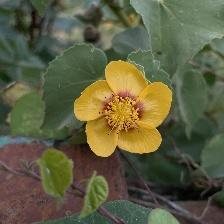indian mallow: (73, 61, 173, 159)
